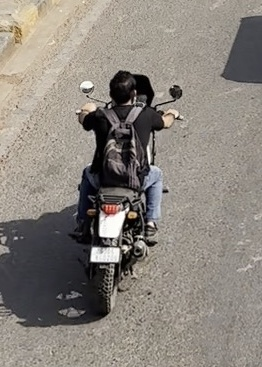BikeWithRider: (61, 64, 188, 319)
NoHelmet: (104, 66, 141, 108)
